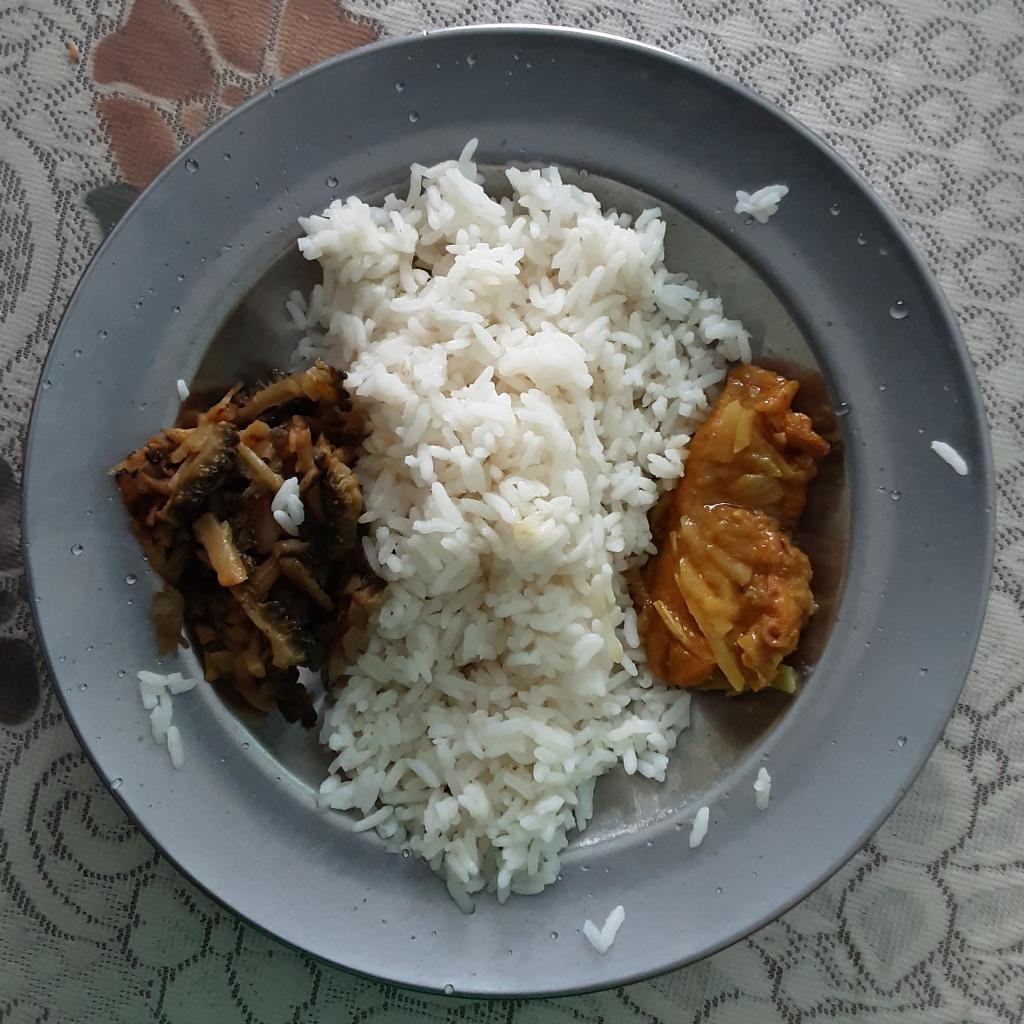fish: (630, 365, 828, 700)
korola-vaji: (113, 360, 390, 734)
potato: (195, 515, 251, 587), (240, 421, 277, 490)
rice: (282, 138, 753, 913), (130, 667, 208, 772), (734, 183, 785, 224), (584, 900, 625, 946), (272, 475, 305, 531), (687, 795, 712, 864), (933, 437, 966, 472), (757, 767, 774, 813)
